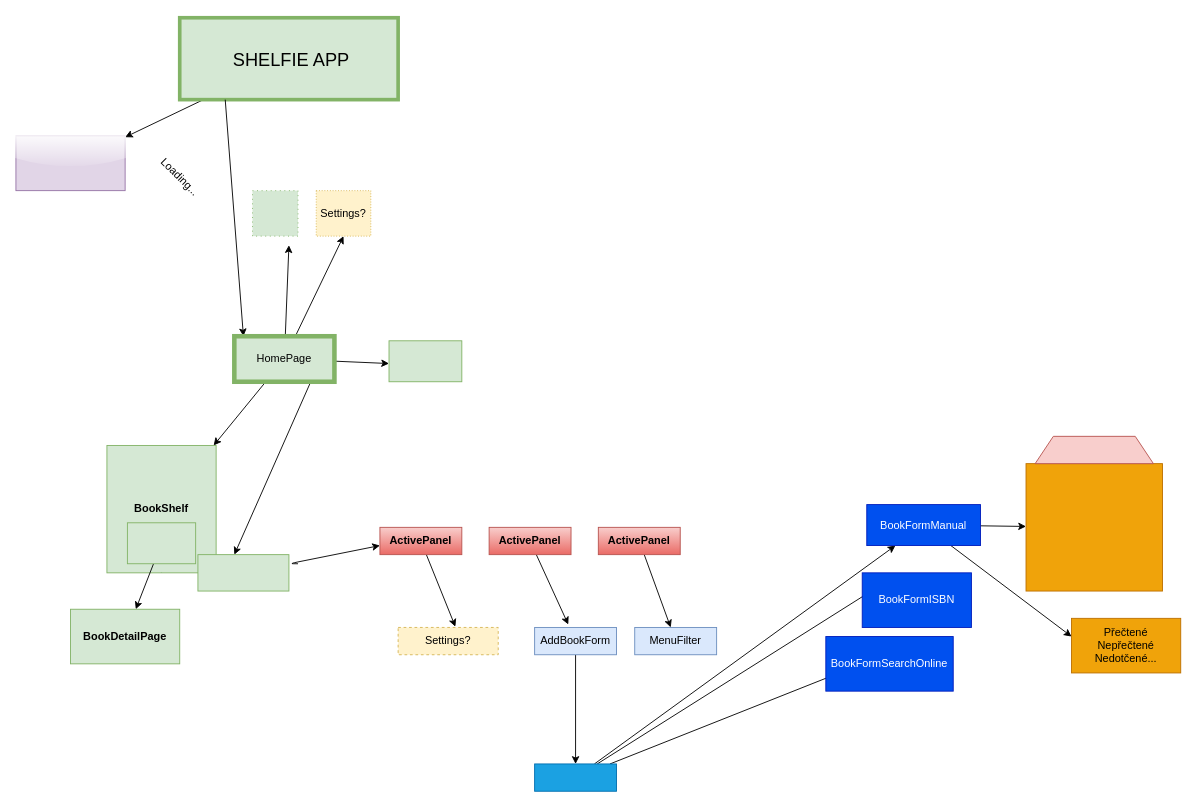
Some shapes in this 1197 by 807 pixel diagram are drawn without their labels. The centre of each missing label's shape, as x and y in pixels:
"AddBookPage" goes at (575,777).
"Autor Titul Počet stran Série Žánr" goes at (1094,527).
"BookItem" goes at (161,543).
"EmptyState" goes at (425,361).
"FloatingMenu" goes at (243,572).
"HOME" goes at (275,213).
"INPUT FIELDS" goes at (1093,449).
"LoadingPage" goes at (70,163).
